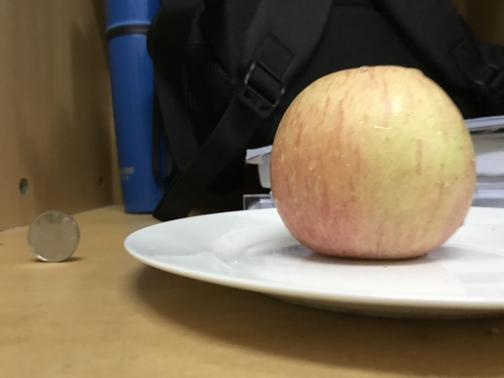apple: (268, 65, 474, 260)
coin: (26, 209, 81, 264)
